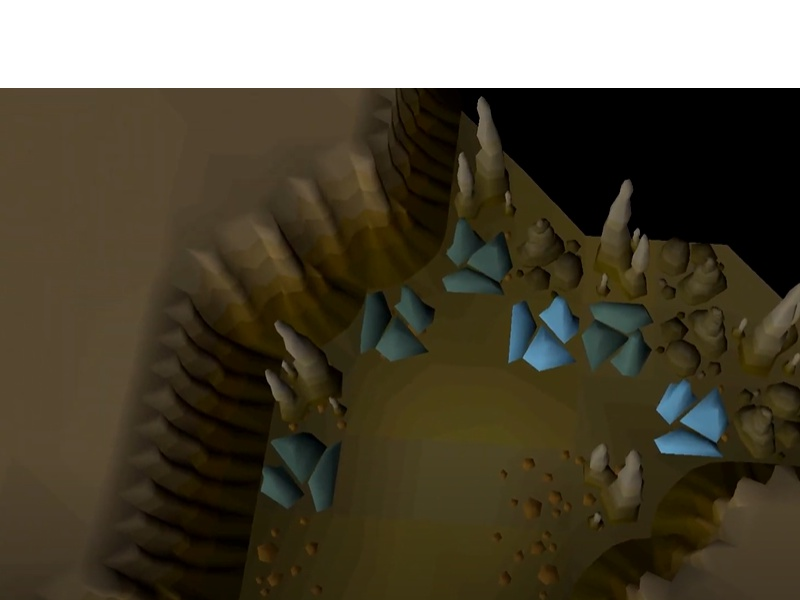adamant: (257, 428, 347, 516), (356, 283, 440, 366), (440, 215, 516, 299), (581, 298, 655, 379)
rune: (650, 377, 732, 463), (504, 294, 582, 375)
